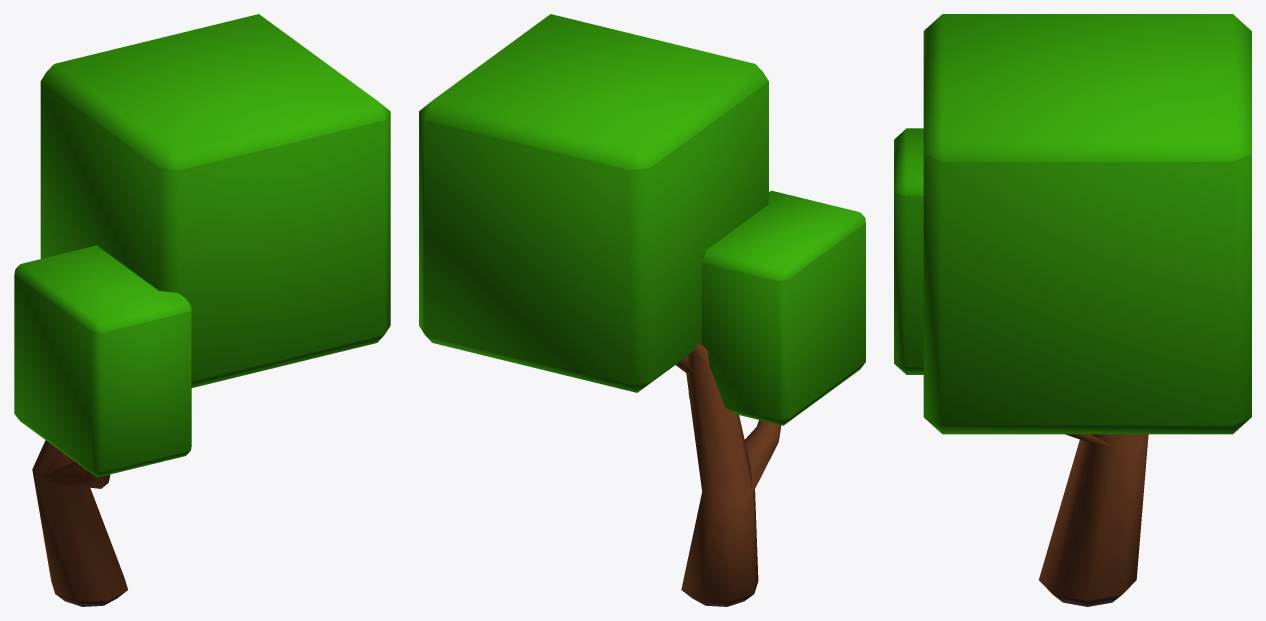
File: tree-a1.glb
3 renders of one model, left to right at view 1: azimuth 30°, elevation 25°; view 2: azimuth 150°, elevation 25°; view 3: azimuth 270°, elevation 25°, orthographic. The views are drawn at different scales.
Parts seen in each view (by area): view 1: tree-07.col; view 2: tree-07.col; view 3: tree-07.col.
Part boxes in pixels (<box>): tree-07.col: <box>14,14,390,606</box>; tree-07.col: <box>419,14,865,606</box>; tree-07.col: <box>894,14,1251,606</box>.
Bounding box in the file's own units: 0.6686 × 0.9816 × 0.5373.
Materials: 1 (1 with a texture image).
